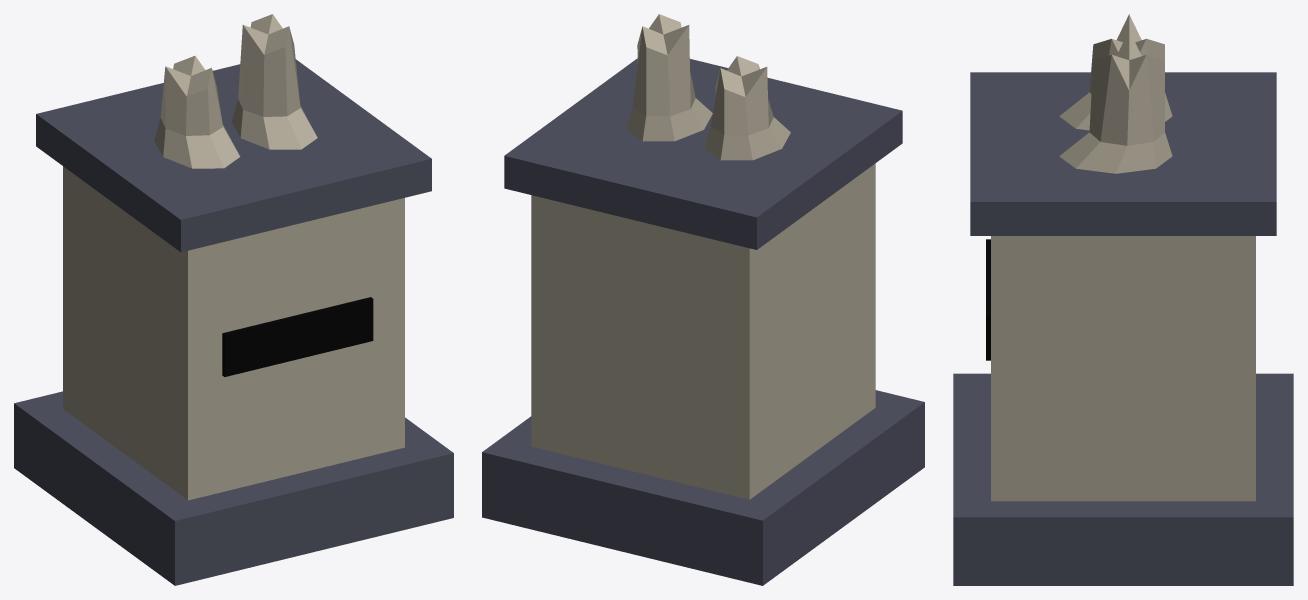
The model's file is plinth_struck.glb.
3 renders of one model, left to right at view 1: azimuth 30°, elevation 25°; view 2: azimuth 150°, elevation 25°; view 3: azimuth 270°, elevation 25°, orthographic. The views are drawn at different scales.
Parts seen in each view (by area): view 1: PlinthStruck; view 2: PlinthStruck; view 3: PlinthStruck.
Boxes of the visible parts, bbox=[...] form: PlinthStruck: bbox=[14, 14, 453, 585]; PlinthStruck: bbox=[482, 14, 924, 585]; PlinthStruck: bbox=[953, 14, 1293, 585].
Bounding box in the file's own units: 1.8 × 2.86 × 1.8.
